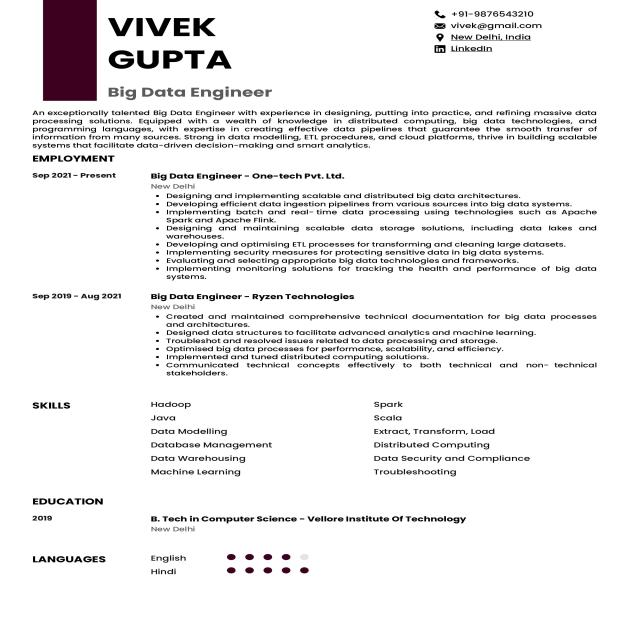contact: (424, 8, 562, 61)
education: (23, 495, 520, 548)
experience: (26, 153, 626, 386)
header: (97, 9, 280, 104)
languages: (26, 551, 369, 599)
skills: (26, 396, 592, 489)
summary: (21, 107, 624, 150)
